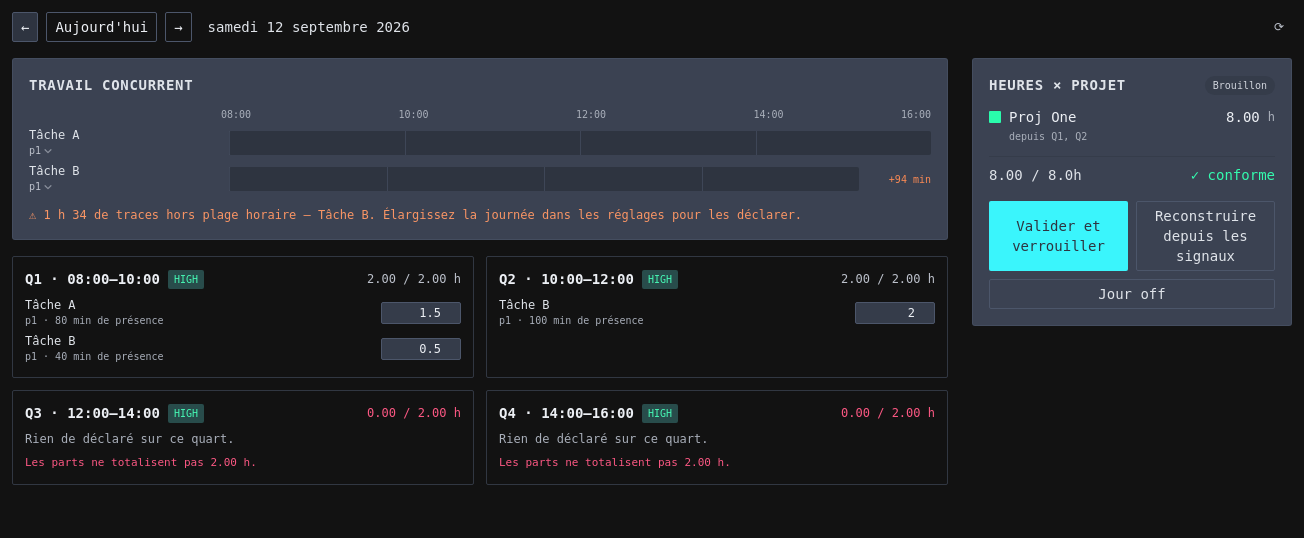
Test: TimesheetPage › reassigns a lane's Gryzzly task from the row and reports the rebuild
What coordinates should you click on to do the following:
click the button named "projet gryzzly de Tâche A"
I would click on:
 (125, 151)
Its box is [29,143,221,159].
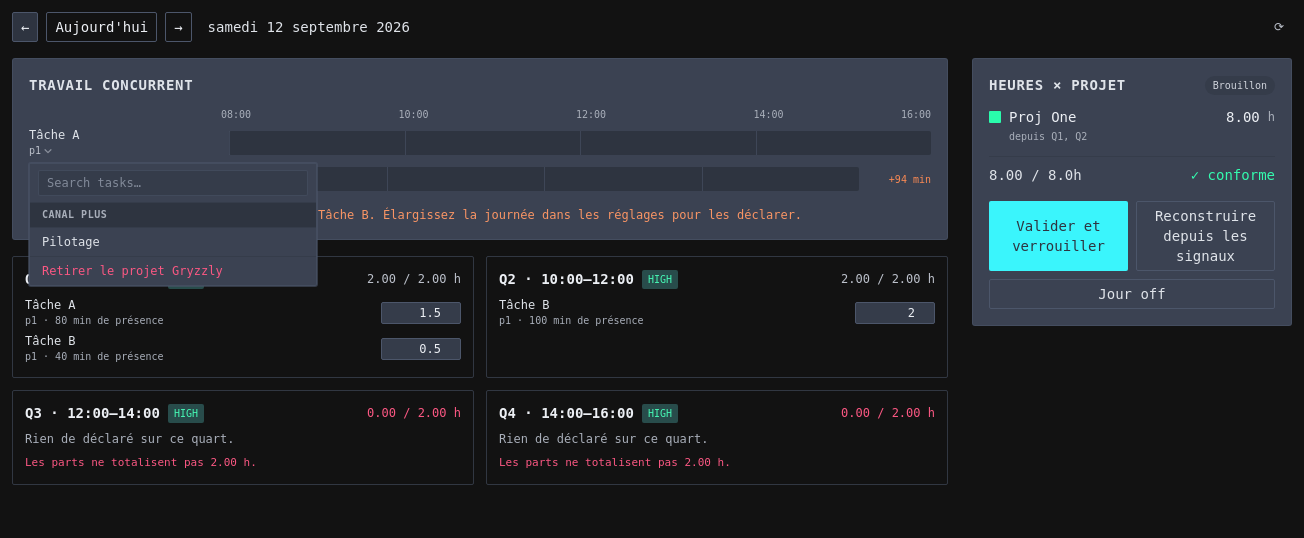
What coordinates should you click on to do the following:
click the option "Pilotage"
I would click on:
 (71, 242)
Its box is [30,228,316,256].
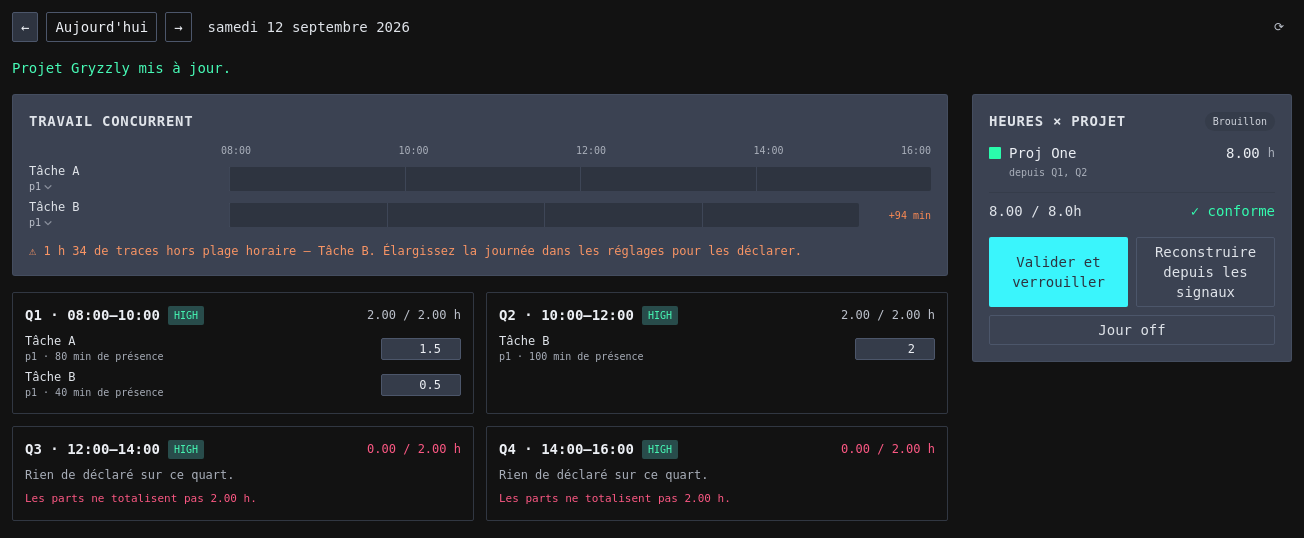
Check: the text "Projet Gryzzly mis à jour." is shown, box [12,60,231,76]
